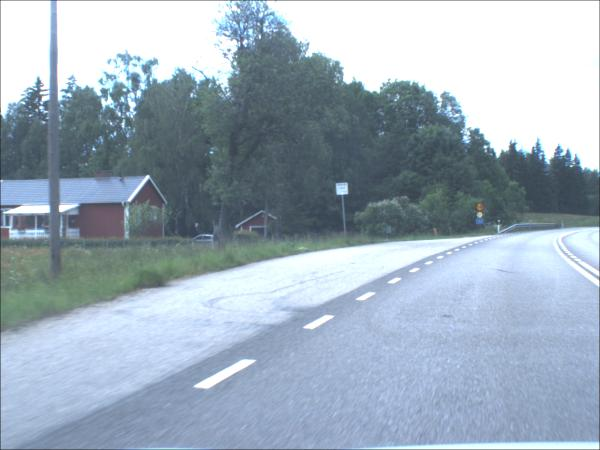80_SIGN: (475, 203, 485, 213)
PRIORITY_ROAD: (477, 213, 483, 220)
